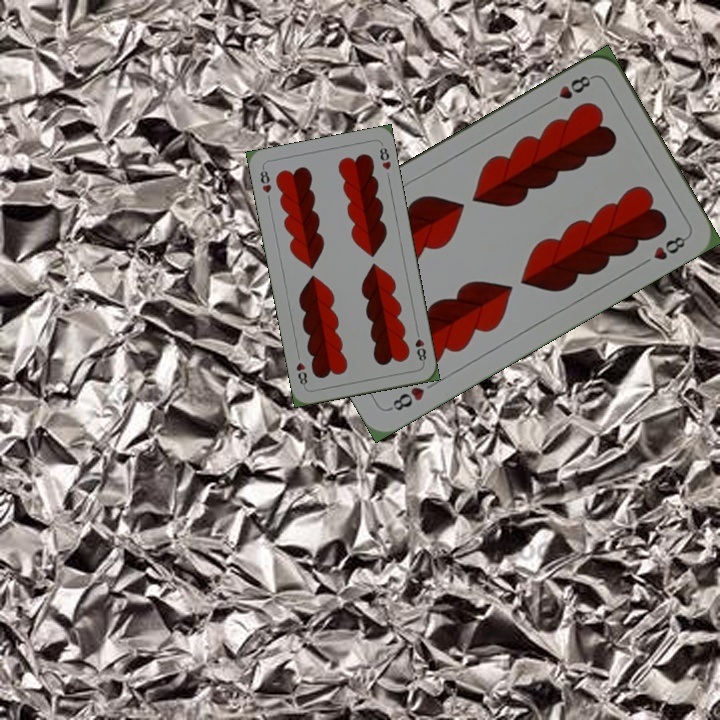H8: (543, 71, 597, 107), (385, 382, 427, 414), (411, 326, 429, 366), (256, 164, 274, 196)
